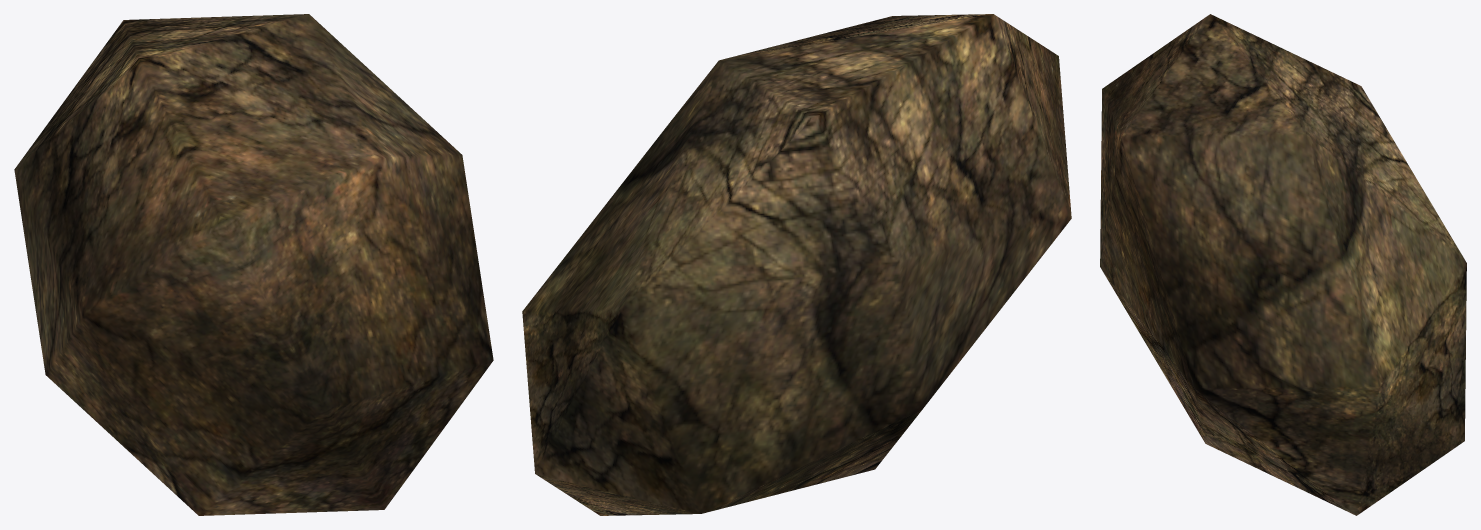
Rendered from stone_14.obj.
3 renders of one model, left to right at view 1: azimuth 30°, elevation 25°; view 2: azimuth 150°, elevation 25°; view 3: azimuth 270°, elevation 25°, orthographic. The views are drawn at different scales.
Parts seen in each view (by area): view 1: (null); view 2: (null); view 3: (null).
Boxes of the visible parts, box(x1,y1,x2,y2) form: (null): box(14, 14, 493, 515); (null): box(522, 14, 1071, 515); (null): box(1100, 14, 1466, 515).
Size of the model in its own units: 1.15 by 1.3 by 1.11.
